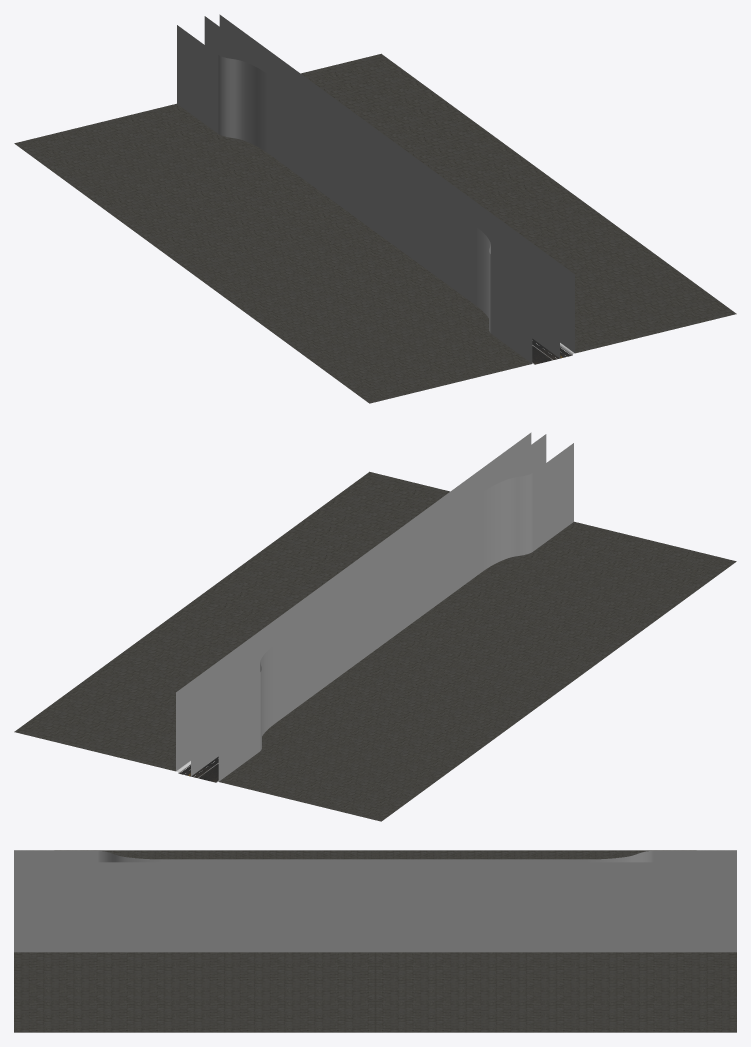
File: CityTrack_A1305.fbx
The picture shows the model from 3 angles, top to bottom: view 1: azimuth 30°, elevation 25°; view 2: azimuth 150°, elevation 25°; view 3: azimuth 270°, elevation 25°; orthographic projection.
Parts seen in each view (by area): view 1: CitySidewalk_A, CityA_Wall_L, CityAI_A, CityA_Wall_R; view 2: CitySidewalk_A, CityA_Wall_L, CityAI_A, CityA_Wall_R; view 3: CitySidewalk_A, CityA_Wall_R, CityAI_A, CityA_Wall_L.
Part boxes in pixels (<box>): CitySidewalk_A: <box>14,53,736,403</box>; CityA_Wall_L: <box>177,25,532,363</box>; CityAI_A: <box>204,16,559,358</box>; CityA_Wall_R: <box>219,14,574,352</box>; CitySidewalk_A: <box>14,471,736,821</box>; CityA_Wall_L: <box>218,443,573,781</box>; CityAI_A: <box>191,434,546,776</box>; CityA_Wall_R: <box>176,432,531,770</box>; CitySidewalk_A: <box>14,850,736,1032</box>; CityA_Wall_R: <box>14,872,736,952</box>; CityAI_A: <box>14,862,736,871</box>; CityA_Wall_L: <box>14,850,736,862</box>.
Size of the model in its own units: 169 by 36.48 by 284.
